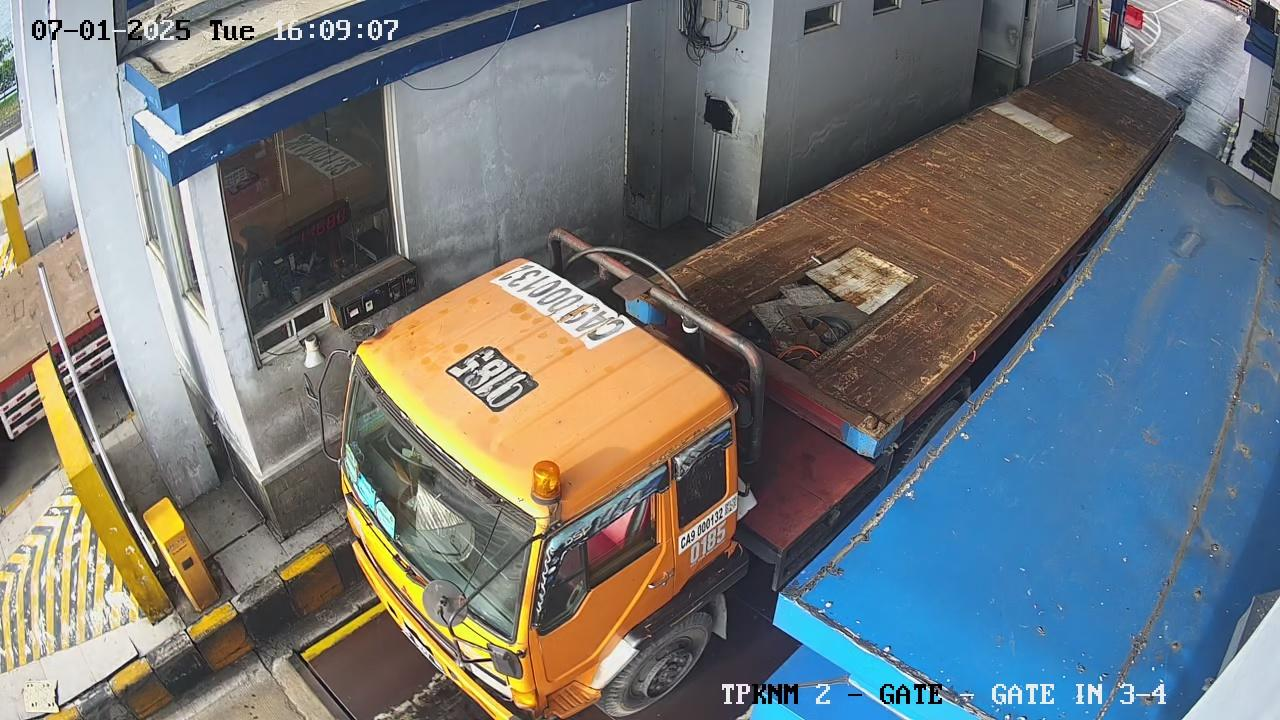truck_id: (488, 244, 638, 364), (669, 488, 752, 556)
